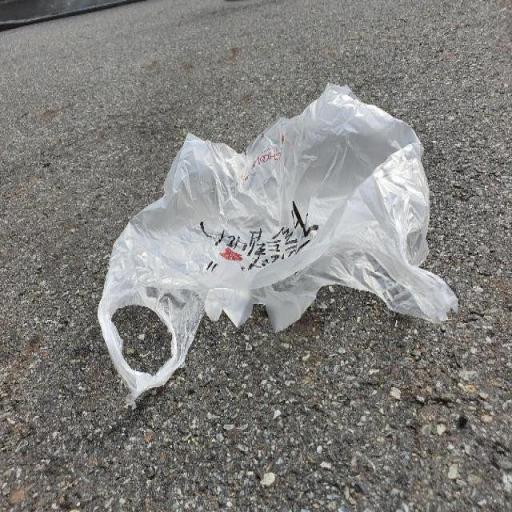plastic-bag: (98, 80, 463, 412)
